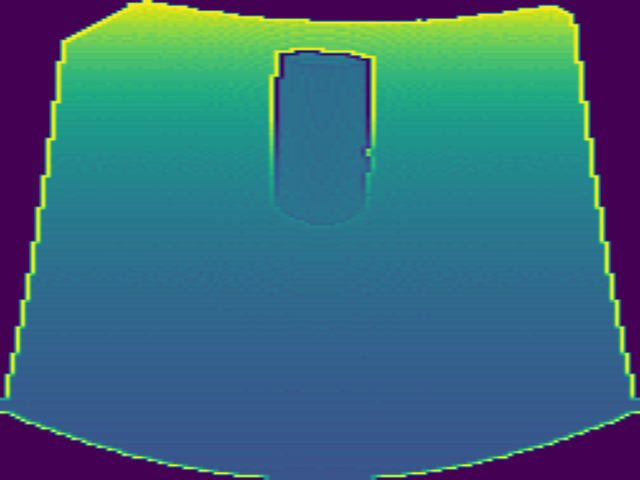cylinder: (267, 49, 378, 224)
